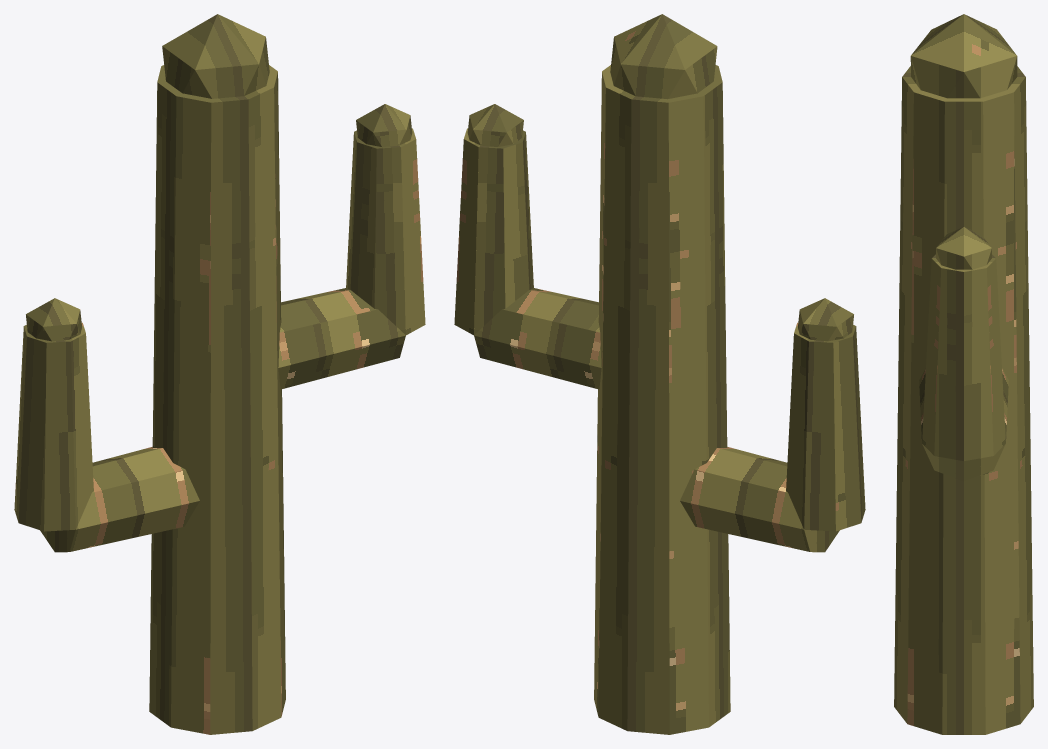
Rendered from arvore_jovem.glb.
3 renders of one model, left to right at view 1: azimuth 30°, elevation 25°; view 2: azimuth 150°, elevation 25°; view 3: azimuth 270°, elevation 25°, orthographic.
Parts seen in each view (by area): view 1: deserto_arvore_jovem; view 2: deserto_arvore_jovem; view 3: deserto_arvore_jovem.
Part boxes in pixels (x1,y1,x2,y2): deserto_arvore_jovem: (14, 14, 425, 734); deserto_arvore_jovem: (454, 14, 865, 734); deserto_arvore_jovem: (894, 14, 1033, 734).
Bounding box in the file's own units: 0.866 × 1.42 × 0.26.
1 material, 1 textured.
